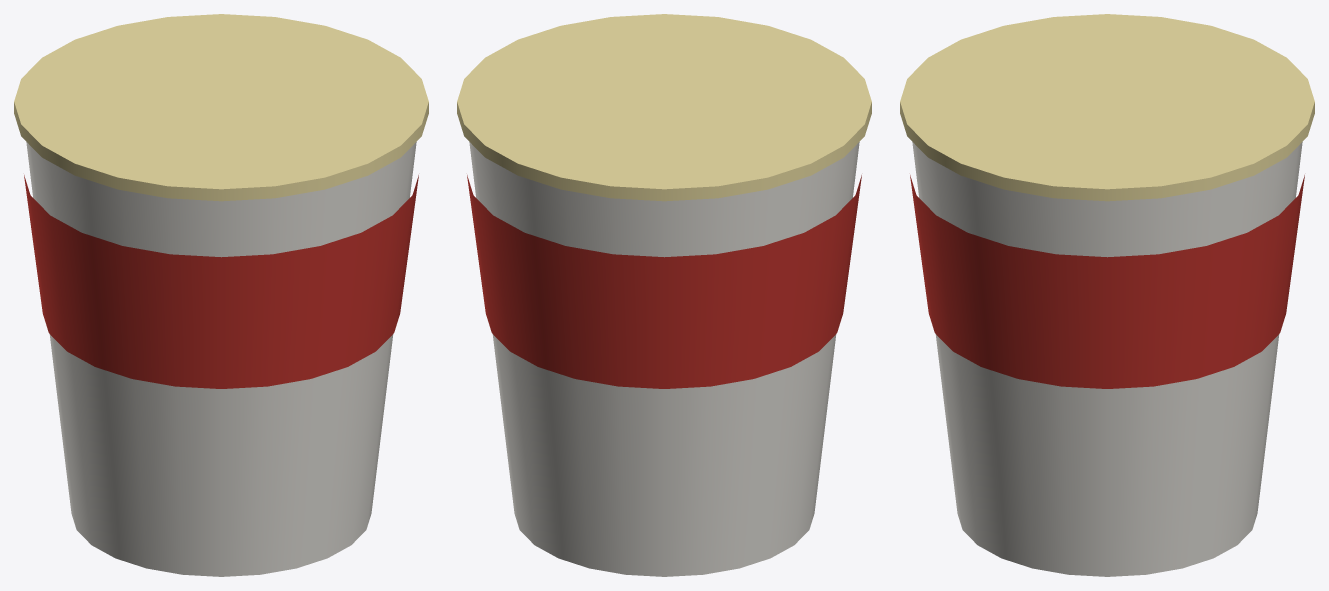
3 views of the same model, side by side, from view 1: azimuth 30°, elevation 25°; view 2: azimuth 150°, elevation 25°; view 3: azimuth 270°, elevation 25° (orthographic).
Parts seen in each view (by area): view 1: ly_mi; view 2: ly_mi; view 3: ly_mi.
Part boxes in pixels (left/top/right/bottom): ly_mi: left=14, top=14, right=428, bottom=576; ly_mi: left=457, top=14, right=871, bottom=576; ly_mi: left=900, top=14, right=1314, bottom=576.
Bounding box in the file's own units: 0.094 × 0.103 × 0.094.
